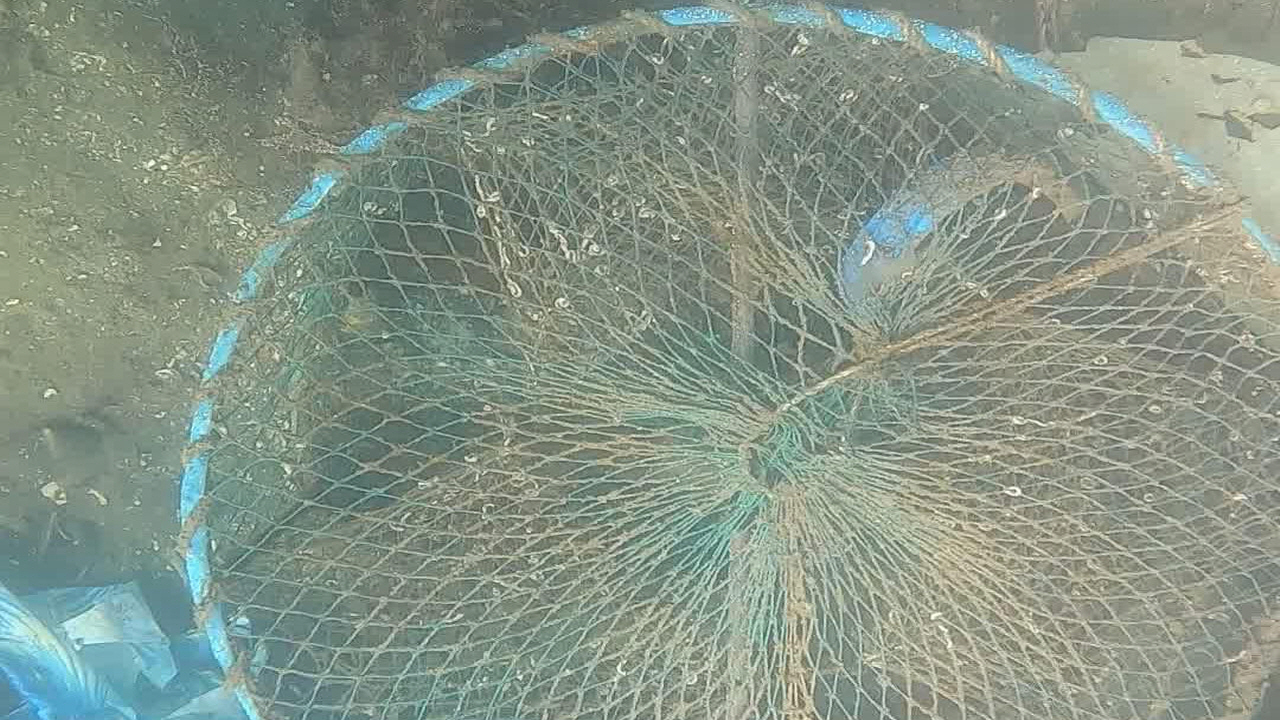circular fish trap: (177, 1, 1280, 720)
